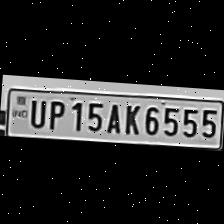1: (64, 96, 84, 130)
5: (82, 96, 106, 131), (197, 104, 218, 137), (178, 103, 198, 136), (160, 102, 180, 134)
6: (138, 101, 159, 134)
A: (102, 99, 123, 134)
K: (120, 100, 141, 135)
P: (44, 96, 66, 128)
U: (26, 94, 46, 127)
